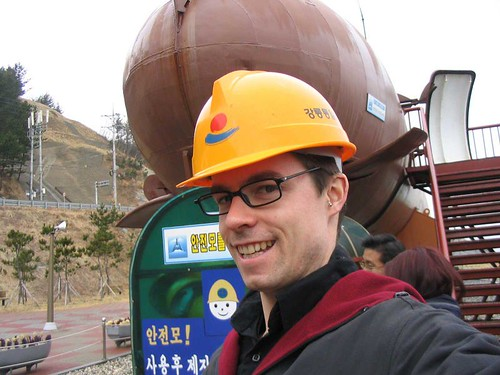person hardhat: (140, 66, 435, 373)
